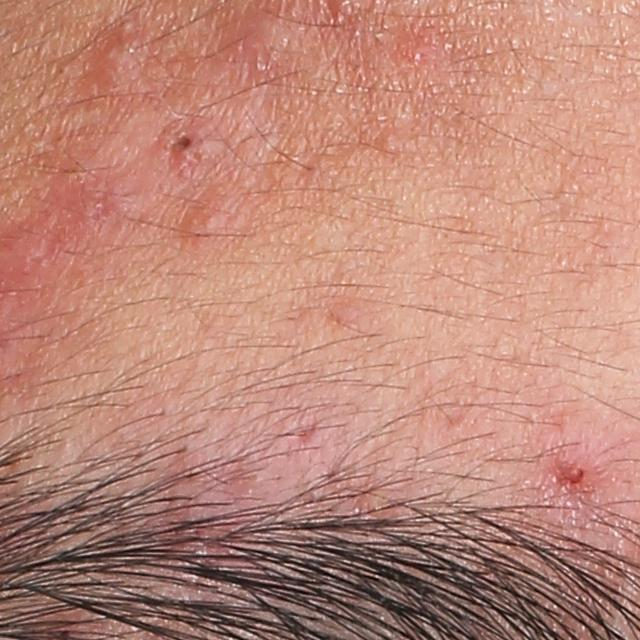papule: (528, 425, 622, 503), (83, 9, 156, 100), (146, 111, 227, 170), (233, 8, 297, 65)
